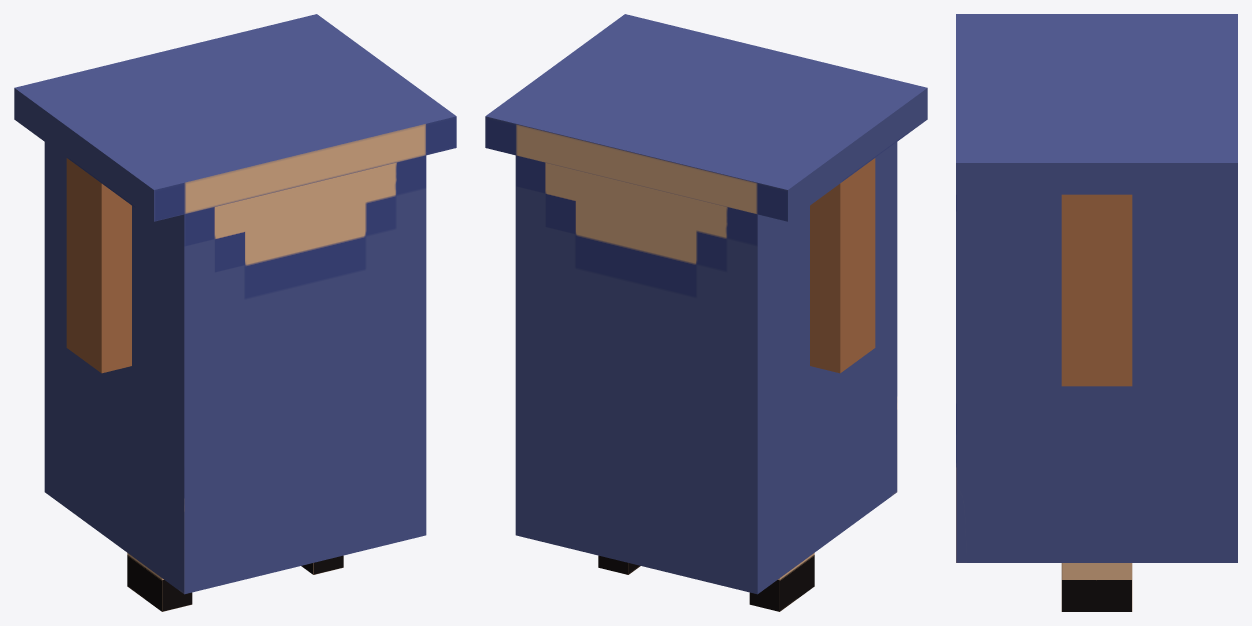
File: body_3.obj
The picture shows the model from 3 angles, left to right: view 1: azimuth 30°, elevation 25°; view 2: azimuth 150°, elevation 25°; view 3: azimuth 270°, elevation 25°; orthographic projection.
Visible parts, largest first — view 1: body_Plane.001, arm.r_Plane.007, leg.r_Plane.002; view 2: body_Plane.001, arm.r_Plane.007, leg.r_Plane.002; view 3: body_Plane.001, arm.l_Plane.006, leg.l_Plane.005.
Boxes of the visible parts, bbox=[...] form: body_Plane.001: bbox=[14, 14, 456, 594]; arm.r_Plane.007: bbox=[66, 158, 131, 373]; leg.r_Plane.002: bbox=[127, 553, 192, 611]; body_Plane.001: bbox=[485, 14, 927, 594]; arm.r_Plane.007: bbox=[810, 158, 875, 373]; leg.r_Plane.002: bbox=[749, 553, 814, 611]; body_Plane.001: bbox=[956, 14, 1237, 562]; arm.l_Plane.006: bbox=[1061, 194, 1132, 386]; leg.l_Plane.005: bbox=[1061, 563, 1132, 611].
Bounding box in the file's own units: 0.0645 × 0.0968 × 0.0516.
Materials: 4 (3 with a texture image).
